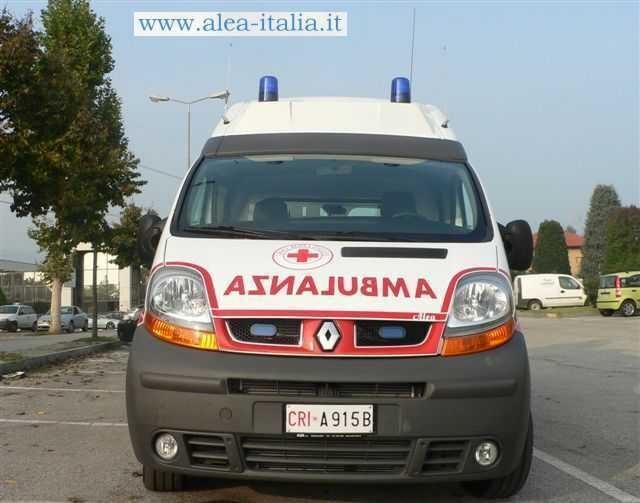car: (123, 74, 535, 498)
